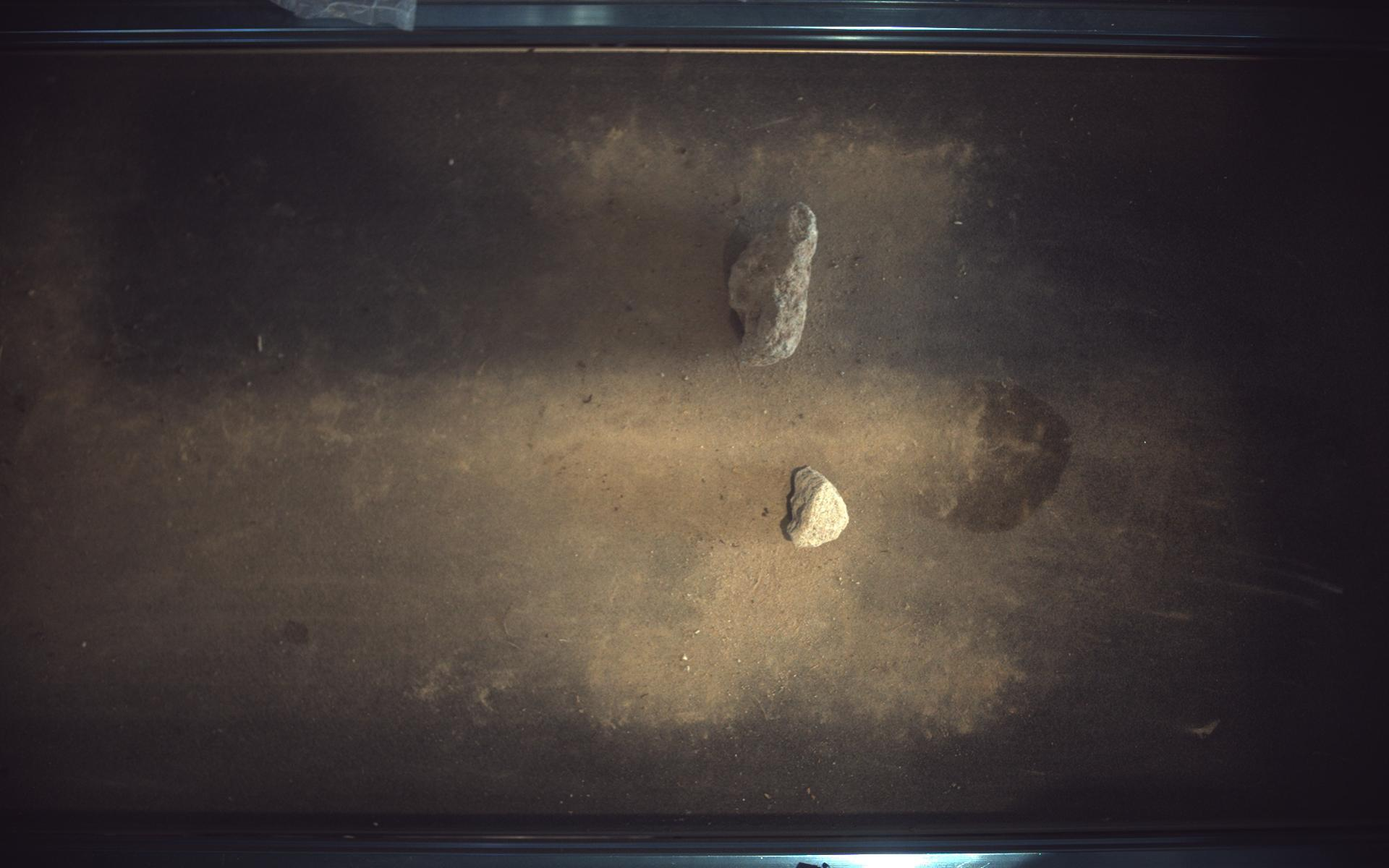stone: (731, 201, 819, 366), (787, 467, 851, 548)
